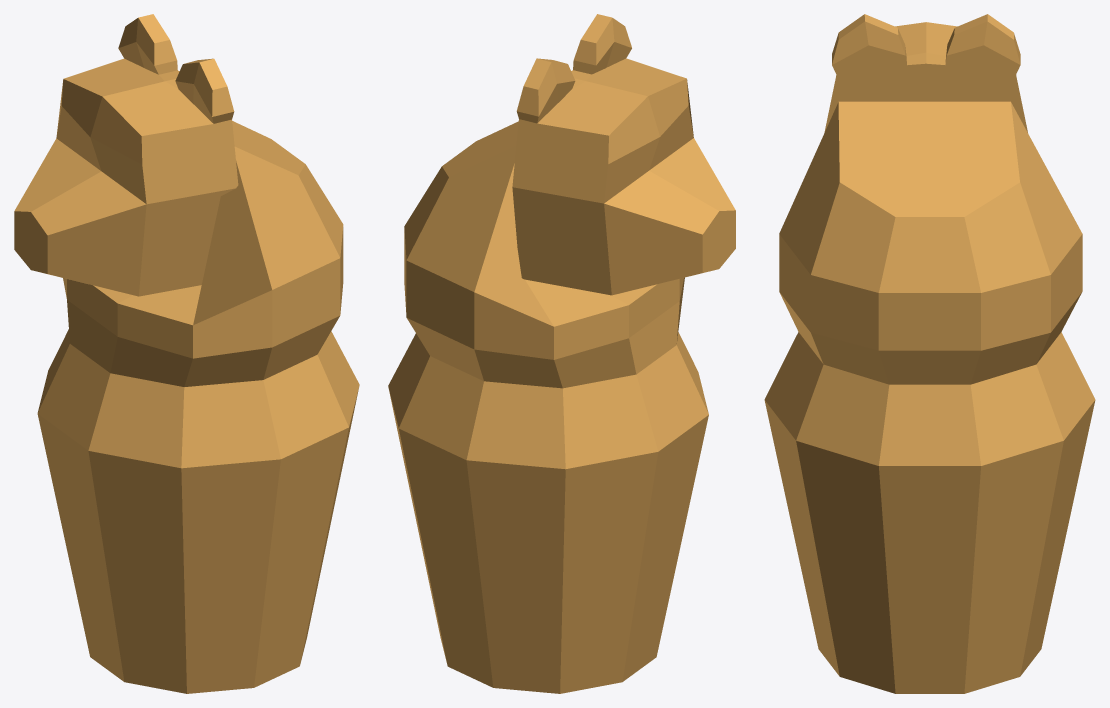
The model's file is Vasija2.fbx.
3 renders of one model, left to right at view 1: azimuth 30°, elevation 25°; view 2: azimuth 150°, elevation 25°; view 3: azimuth 270°, elevation 25°, orthographic.
Visible parts, largest first — view 1: Vasija, CaraMono; view 2: Vasija, CaraMono; view 3: Vasija, CaraMono.
Boxes of the visible parts, <box> form: Vasija: <box>37,121,359,693</box>; CaraMono: <box>14,14,238,296</box>; Vasija: <box>388,121,708,693</box>; CaraMono: <box>512,14,735,295</box>; Vasija: <box>764,101,1095,693</box>; CaraMono: <box>824,14,1027,132</box>.
Bounding box in the file's own units: 42.8 × 82.61 × 40.
